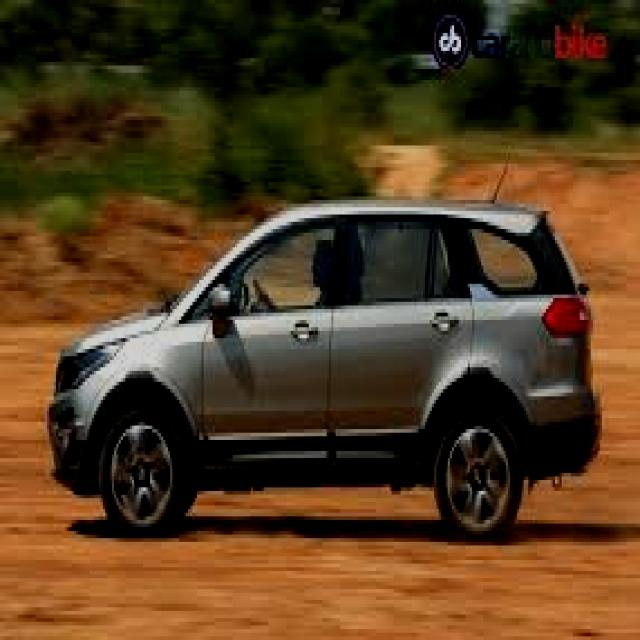SUV: (47, 194, 607, 543)
